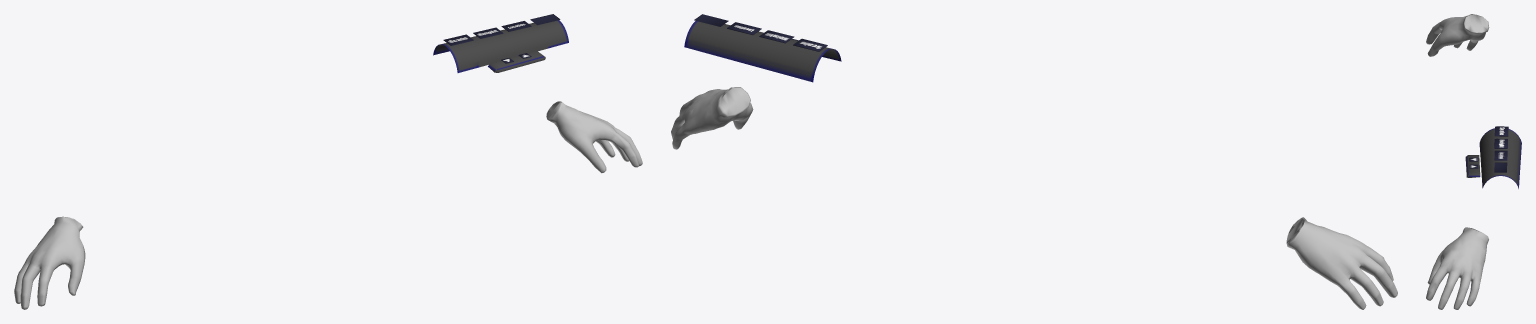
Rendered from HandUI.fbx.
3 views of the same model, side by side, from view 1: azimuth 30°, elevation 25°; view 2: azimuth 150°, elevation 25°; view 3: azimuth 270°, elevation 25° (orthographic). The views are drawn at different scales.
Parts seen in each view (by area): view 1: hands:Rhand, MainUI, SecUI; view 2: hands:Rhand, MainUI; view 3: hands:Rhand, MainUI, SecUI, Scale, Location, Body, Height.
Boxes of the visible parts, box(x1,y1,x2,y2) form: hands:Rhand: box(14, 101, 642, 309); MainUI: box(433, 20, 568, 72); SecUI: box(488, 51, 545, 72); hands:Rhand: box(671, 87, 1397, 309); MainUI: box(684, 21, 841, 82); hands:Rhand: box(1426, 14, 1489, 309); MainUI: box(1479, 128, 1521, 188); SecUI: box(1465, 155, 1480, 177); Scale: box(1494, 126, 1508, 136); Location: box(1494, 150, 1507, 160); Body: box(1494, 162, 1507, 172); Height: box(1494, 138, 1507, 148).
Size of the model in its own units: 1484 by 314 by 230.
